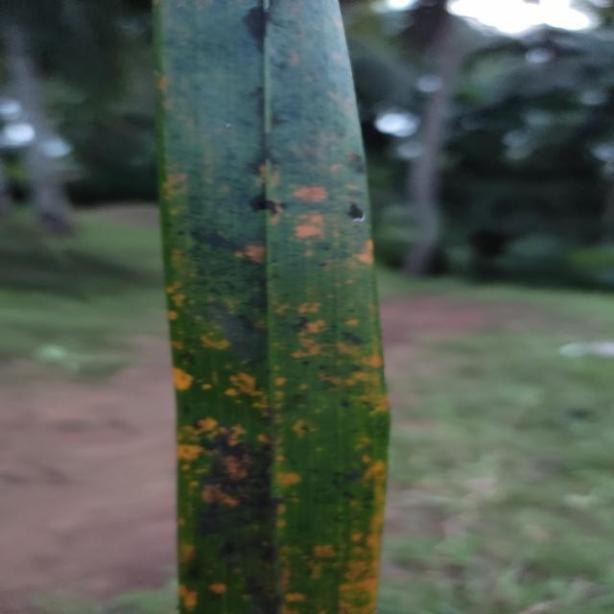Kalium: (156, 0, 396, 614)
